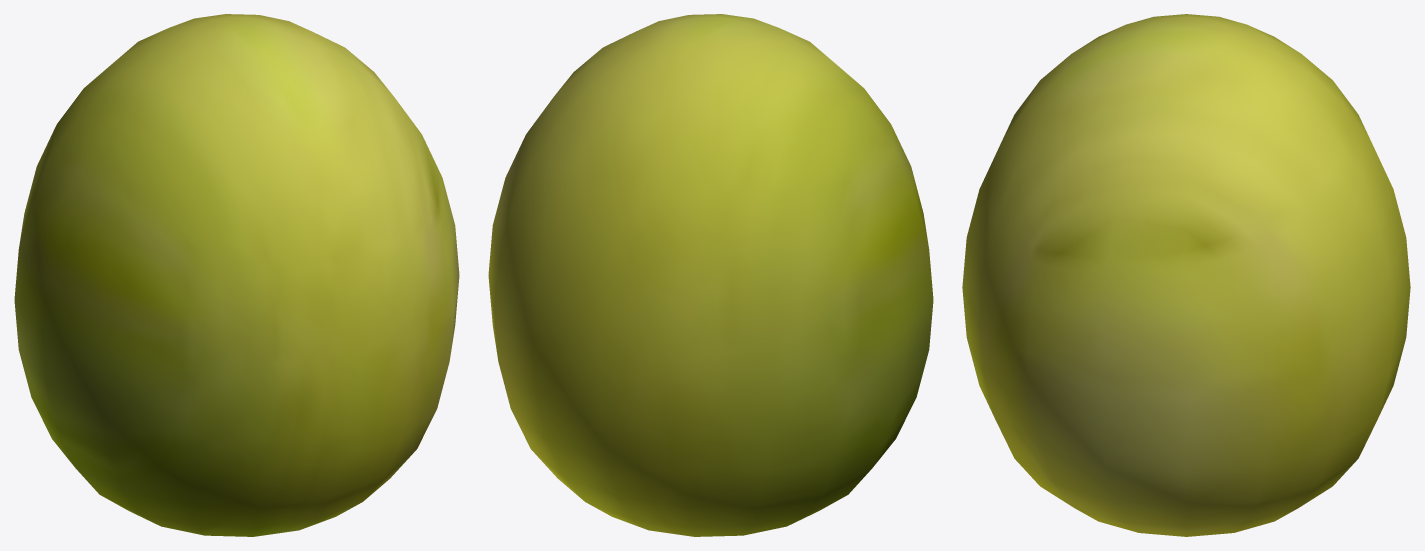
File: grape.fbx
The picture shows the model from 3 angles, left to right: view 1: azimuth 30°, elevation 25°; view 2: azimuth 150°, elevation 25°; view 3: azimuth 270°, elevation 25°; orthographic projection.
Visible parts, largest first — view 1: Grape; view 2: Grape; view 3: Grape.
Part boxes in pixels (x1=…): Grape: x1=14, y1=14, x2=459, y2=536; Grape: x1=488, y1=14, x2=933, y2=536; Grape: x1=962, y1=14, x2=1410, y2=536.
Bounding box in the file's own units: 0.0817 × 0.0966 × 0.0817.
